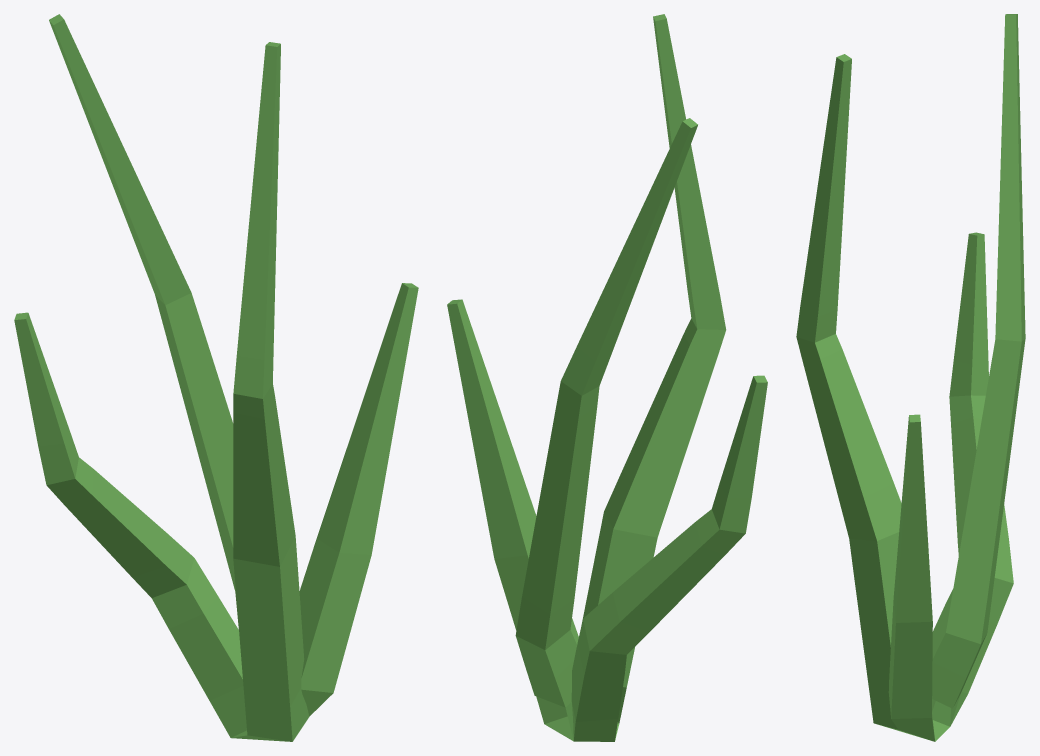
Rendered from Grass1.fbx.
3 renders of one model, left to right at view 1: azimuth 30°, elevation 25°; view 2: azimuth 150°, elevation 25°; view 3: azimuth 270°, elevation 25°, orthographic. The views are drawn at different scales.
Visible parts, largest first — view 1: Cube; view 2: Cube; view 3: Cube.
Boxes of the visible parts, x1,y1,x2,y2 form: Cube: (14,14,418,741); Cube: (447,14,767,741); Cube: (796,14,1025,741).
Size of the model in its own units: 87.87 by 166 by 52.44.
